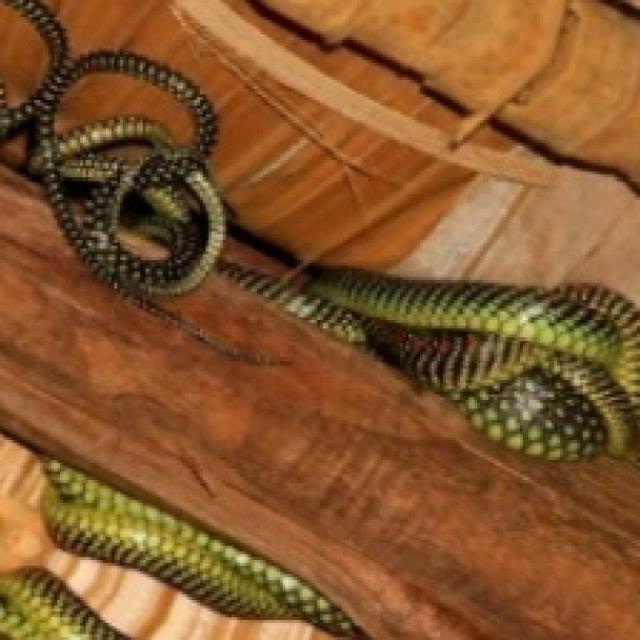paradise tree snake: (0, 169, 637, 637), (43, 0, 637, 303), (0, 440, 326, 637)
